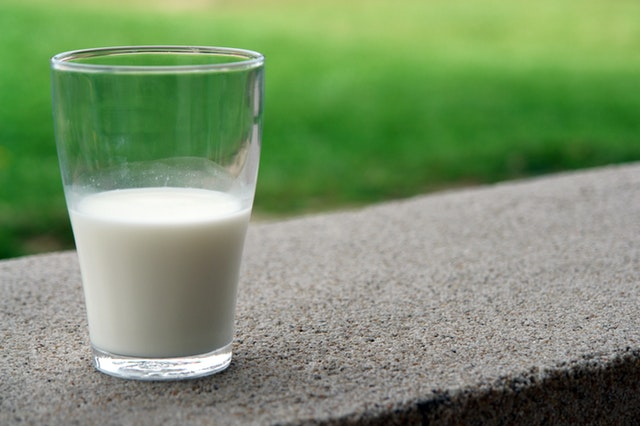glass of milk: (49, 42, 261, 381)
